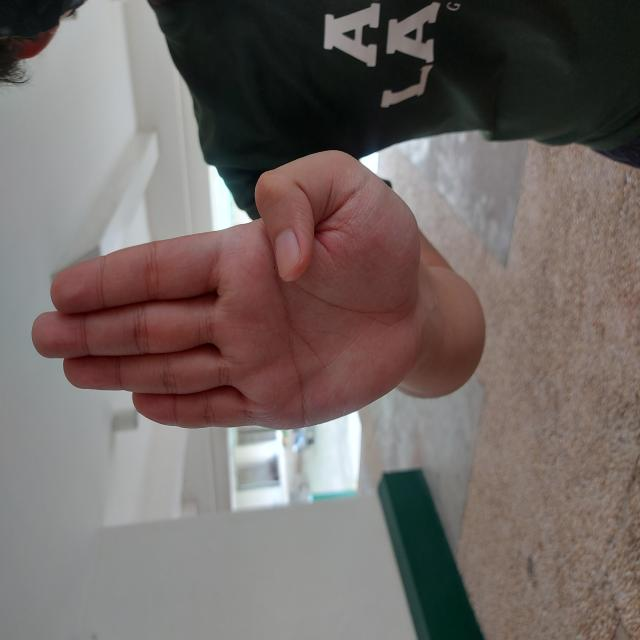B: (208, 29, 492, 422)
